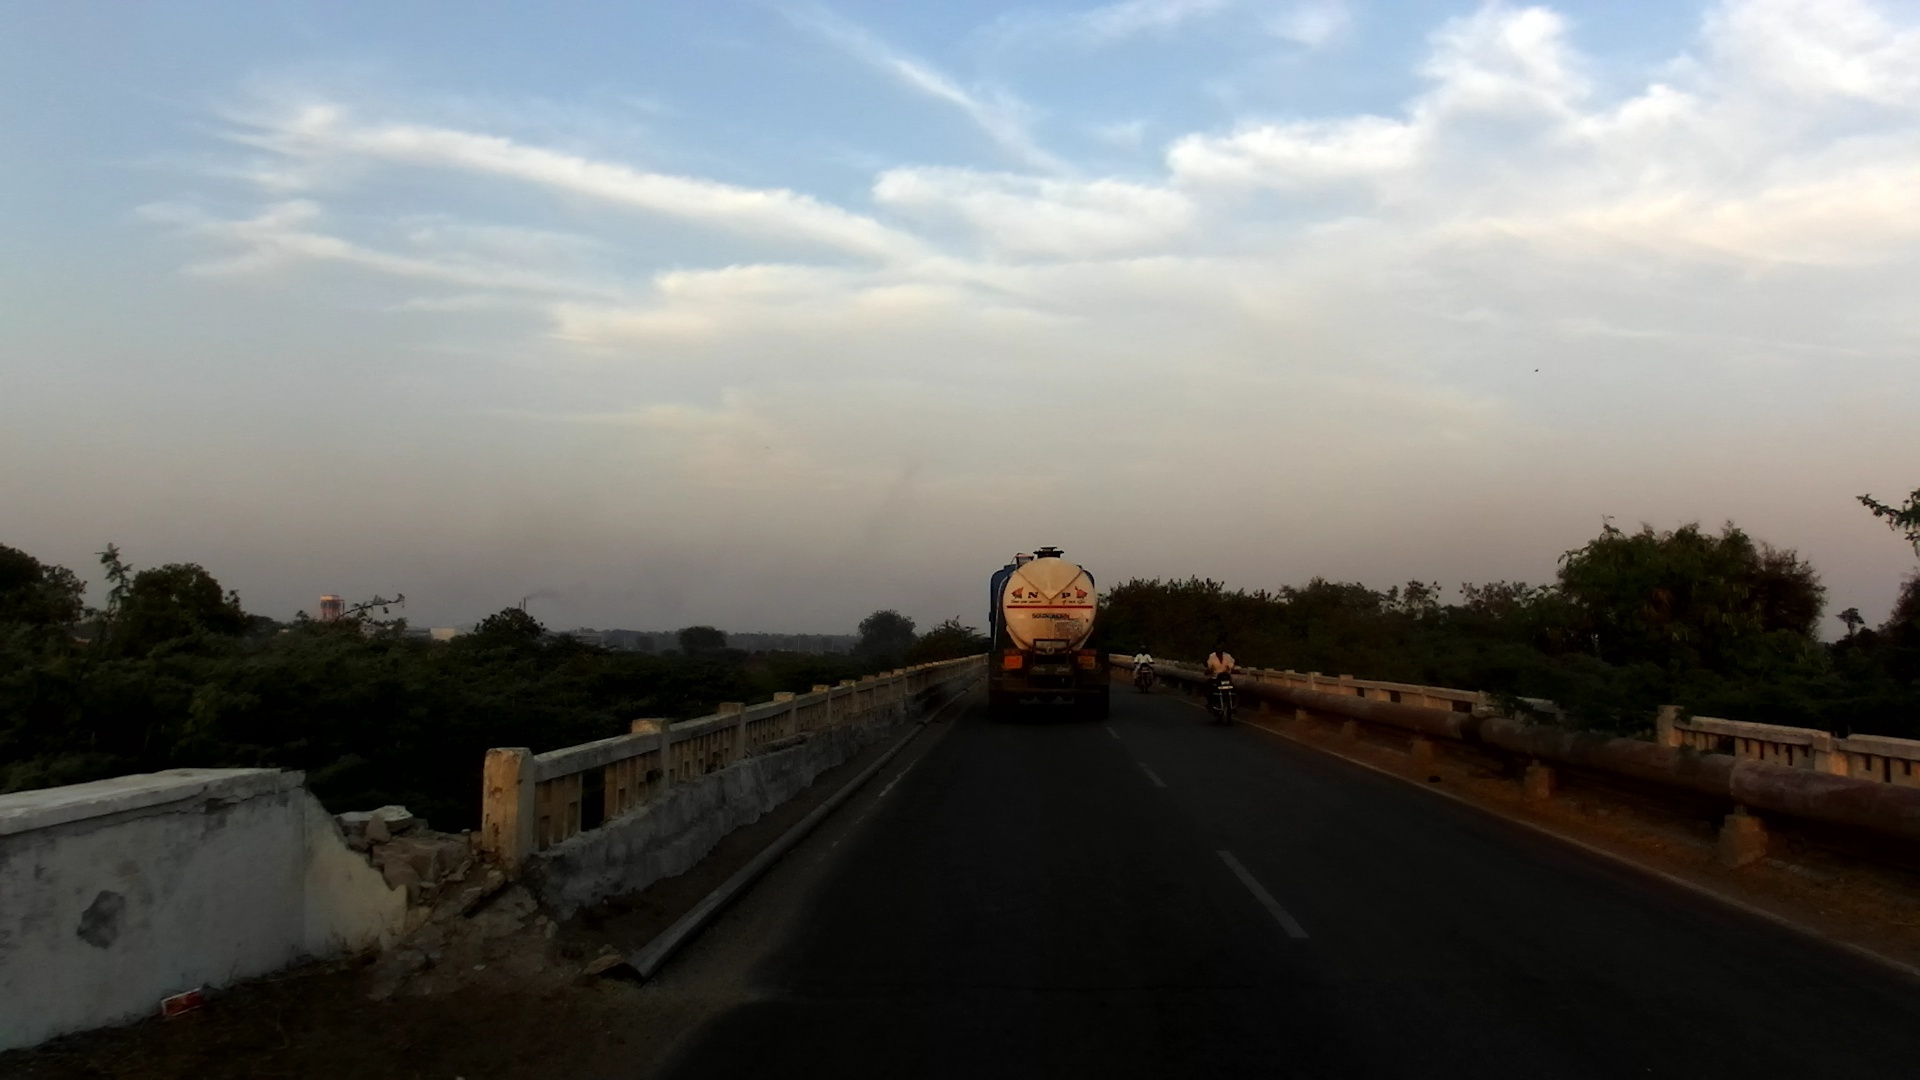motorcycle: (1206, 667, 1238, 728), (1138, 665, 1159, 696)
rider: (1206, 635, 1237, 712), (1133, 645, 1158, 692)
truck: (979, 541, 1113, 720)
